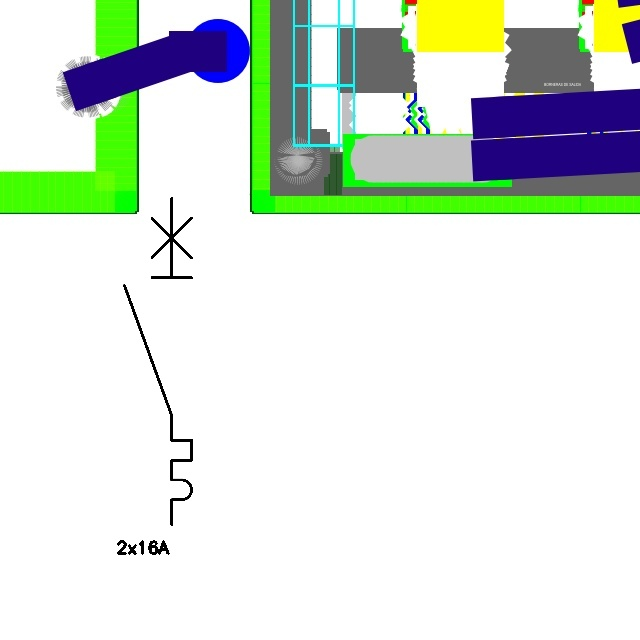interruptor_termomagnetico: (116, 190, 200, 533)
